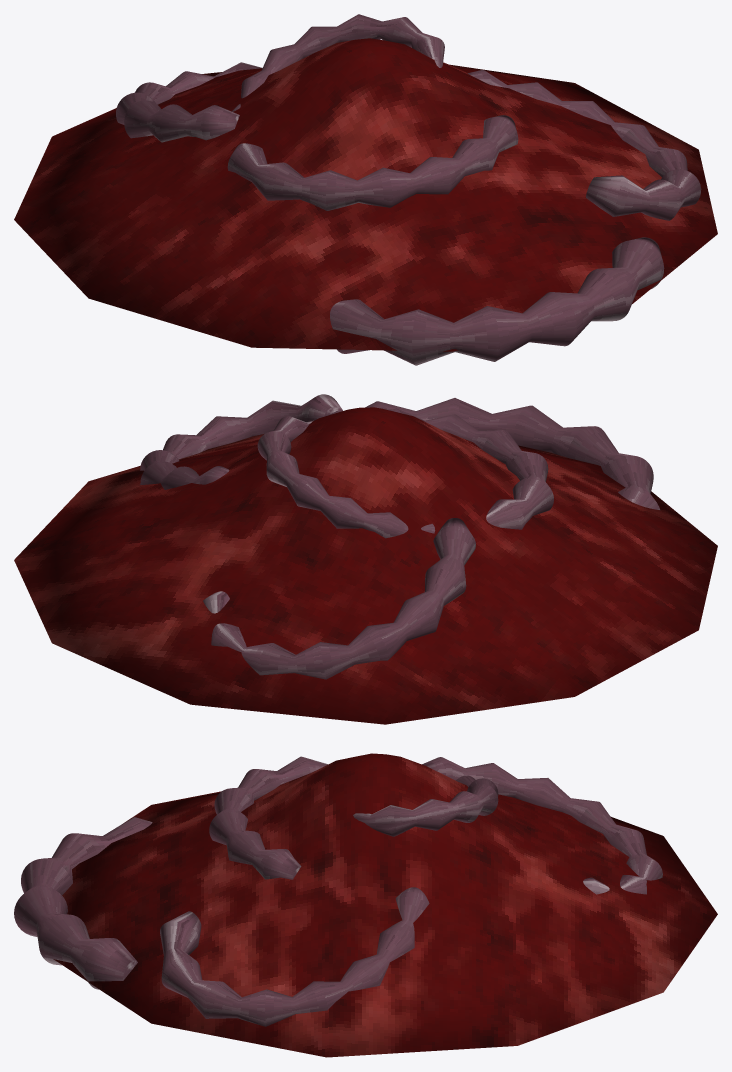
File: PIG_Viscera_1.glb
3 views of the same model, one above another, from view 1: azimuth 30°, elevation 25°; view 2: azimuth 150°, elevation 25°; view 3: azimuth 270°, elevation 25° (orthographic). The views are drawn at different scales.
Parts seen in each view (by area): view 1: pile 1; view 2: pile 1; view 3: pile 1.
Boxes of the visible parts, left/top/right/bottom form: pile 1: left=14, top=14, right=717, bottom=365; pile 1: left=14, top=394, right=717, bottom=724; pile 1: left=14, top=753, right=717, bottom=1057.
Size of the model in its own units: 2.57 by 0.7458 by 2.67.
Materials: 1 (1 with a texture image).
